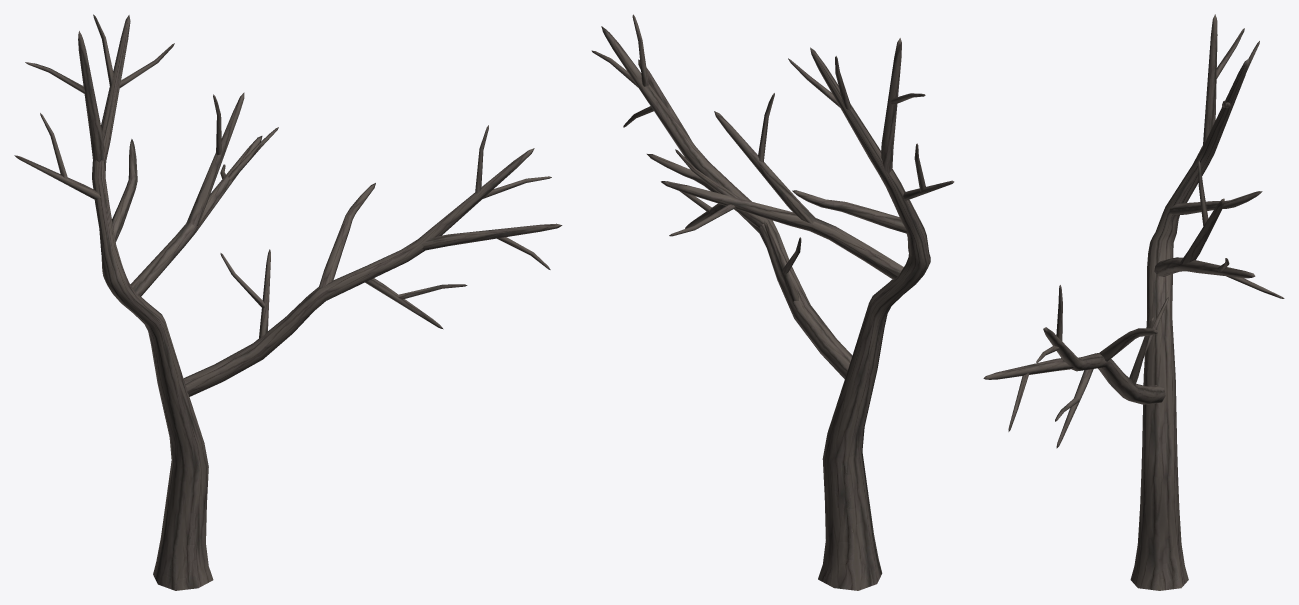
File: dead_2.glb
3 renders of one model, left to right at view 1: azimuth 30°, elevation 25°; view 2: azimuth 150°, elevation 25°; view 3: azimuth 270°, elevation 25°, orthographic. The views are drawn at different scales.
Visible parts, largest first — view 1: DeadTree_6; view 2: DeadTree_6; view 3: DeadTree_6.
Boxes of the visible parts, x1,y1,x2,y2 form: DeadTree_6: (14, 14, 562, 590); DeadTree_6: (591, 14, 954, 590); DeadTree_6: (983, 14, 1284, 590).
Bounding box in the file's own units: 5.41 × 6.41 × 3.3.
Materials: 1 (1 with a texture image).
